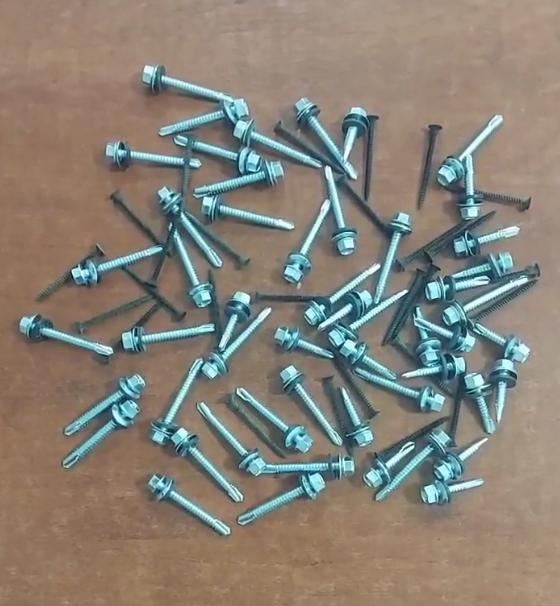Screw: (170, 428, 243, 501), (375, 428, 449, 500), (62, 400, 139, 468), (158, 187, 222, 267), (294, 98, 356, 179), (63, 374, 145, 435), (202, 307, 271, 379), (197, 402, 265, 475), (280, 365, 342, 445), (236, 387, 312, 452), (148, 475, 230, 535), (437, 115, 502, 187), (304, 263, 379, 325), (150, 358, 203, 445), (237, 473, 325, 525), (442, 276, 528, 325), (233, 120, 320, 167), (19, 314, 113, 357), (283, 198, 330, 283), (354, 368, 444, 411), (185, 212, 249, 268), (424, 211, 494, 262), (373, 213, 411, 304), (121, 267, 185, 321), (174, 135, 262, 174), (158, 99, 248, 136), (142, 64, 231, 101), (201, 195, 294, 230), (193, 161, 283, 197), (173, 232, 212, 307), (333, 354, 378, 418), (324, 166, 356, 255), (121, 324, 214, 352), (348, 289, 408, 332), (363, 441, 415, 487), (339, 339, 396, 380), (433, 438, 487, 481), (105, 140, 184, 169), (472, 322, 529, 362), (317, 290, 372, 330), (485, 359, 519, 423), (263, 455, 354, 478), (414, 318, 475, 352), (453, 226, 519, 257), (339, 387, 373, 447), (217, 291, 250, 350), (463, 373, 494, 434), (274, 326, 333, 358), (401, 352, 465, 380), (412, 306, 441, 366), (425, 275, 489, 301), (452, 252, 513, 279), (457, 154, 481, 220), (420, 479, 483, 504), (341, 107, 368, 160), (327, 323, 357, 358), (491, 263, 540, 282), (190, 158, 201, 168), (171, 232, 174, 238)
black screw: (395, 211, 495, 270), (382, 264, 439, 345), (35, 244, 104, 301), (225, 394, 285, 458), (185, 212, 249, 268), (273, 120, 340, 172), (121, 267, 185, 321), (426, 211, 494, 261), (337, 177, 390, 237), (332, 352, 378, 418), (376, 416, 449, 457), (75, 295, 152, 333), (110, 190, 163, 244), (469, 280, 537, 320), (321, 376, 352, 455), (417, 124, 442, 209), (147, 222, 176, 287), (363, 114, 378, 202), (474, 189, 531, 210), (448, 376, 464, 446), (180, 136, 195, 209), (208, 269, 222, 343), (126, 302, 161, 331), (491, 263, 540, 282), (129, 302, 161, 331), (391, 336, 418, 364), (254, 292, 320, 302), (426, 375, 453, 396), (111, 337, 122, 351), (449, 185, 464, 194)
